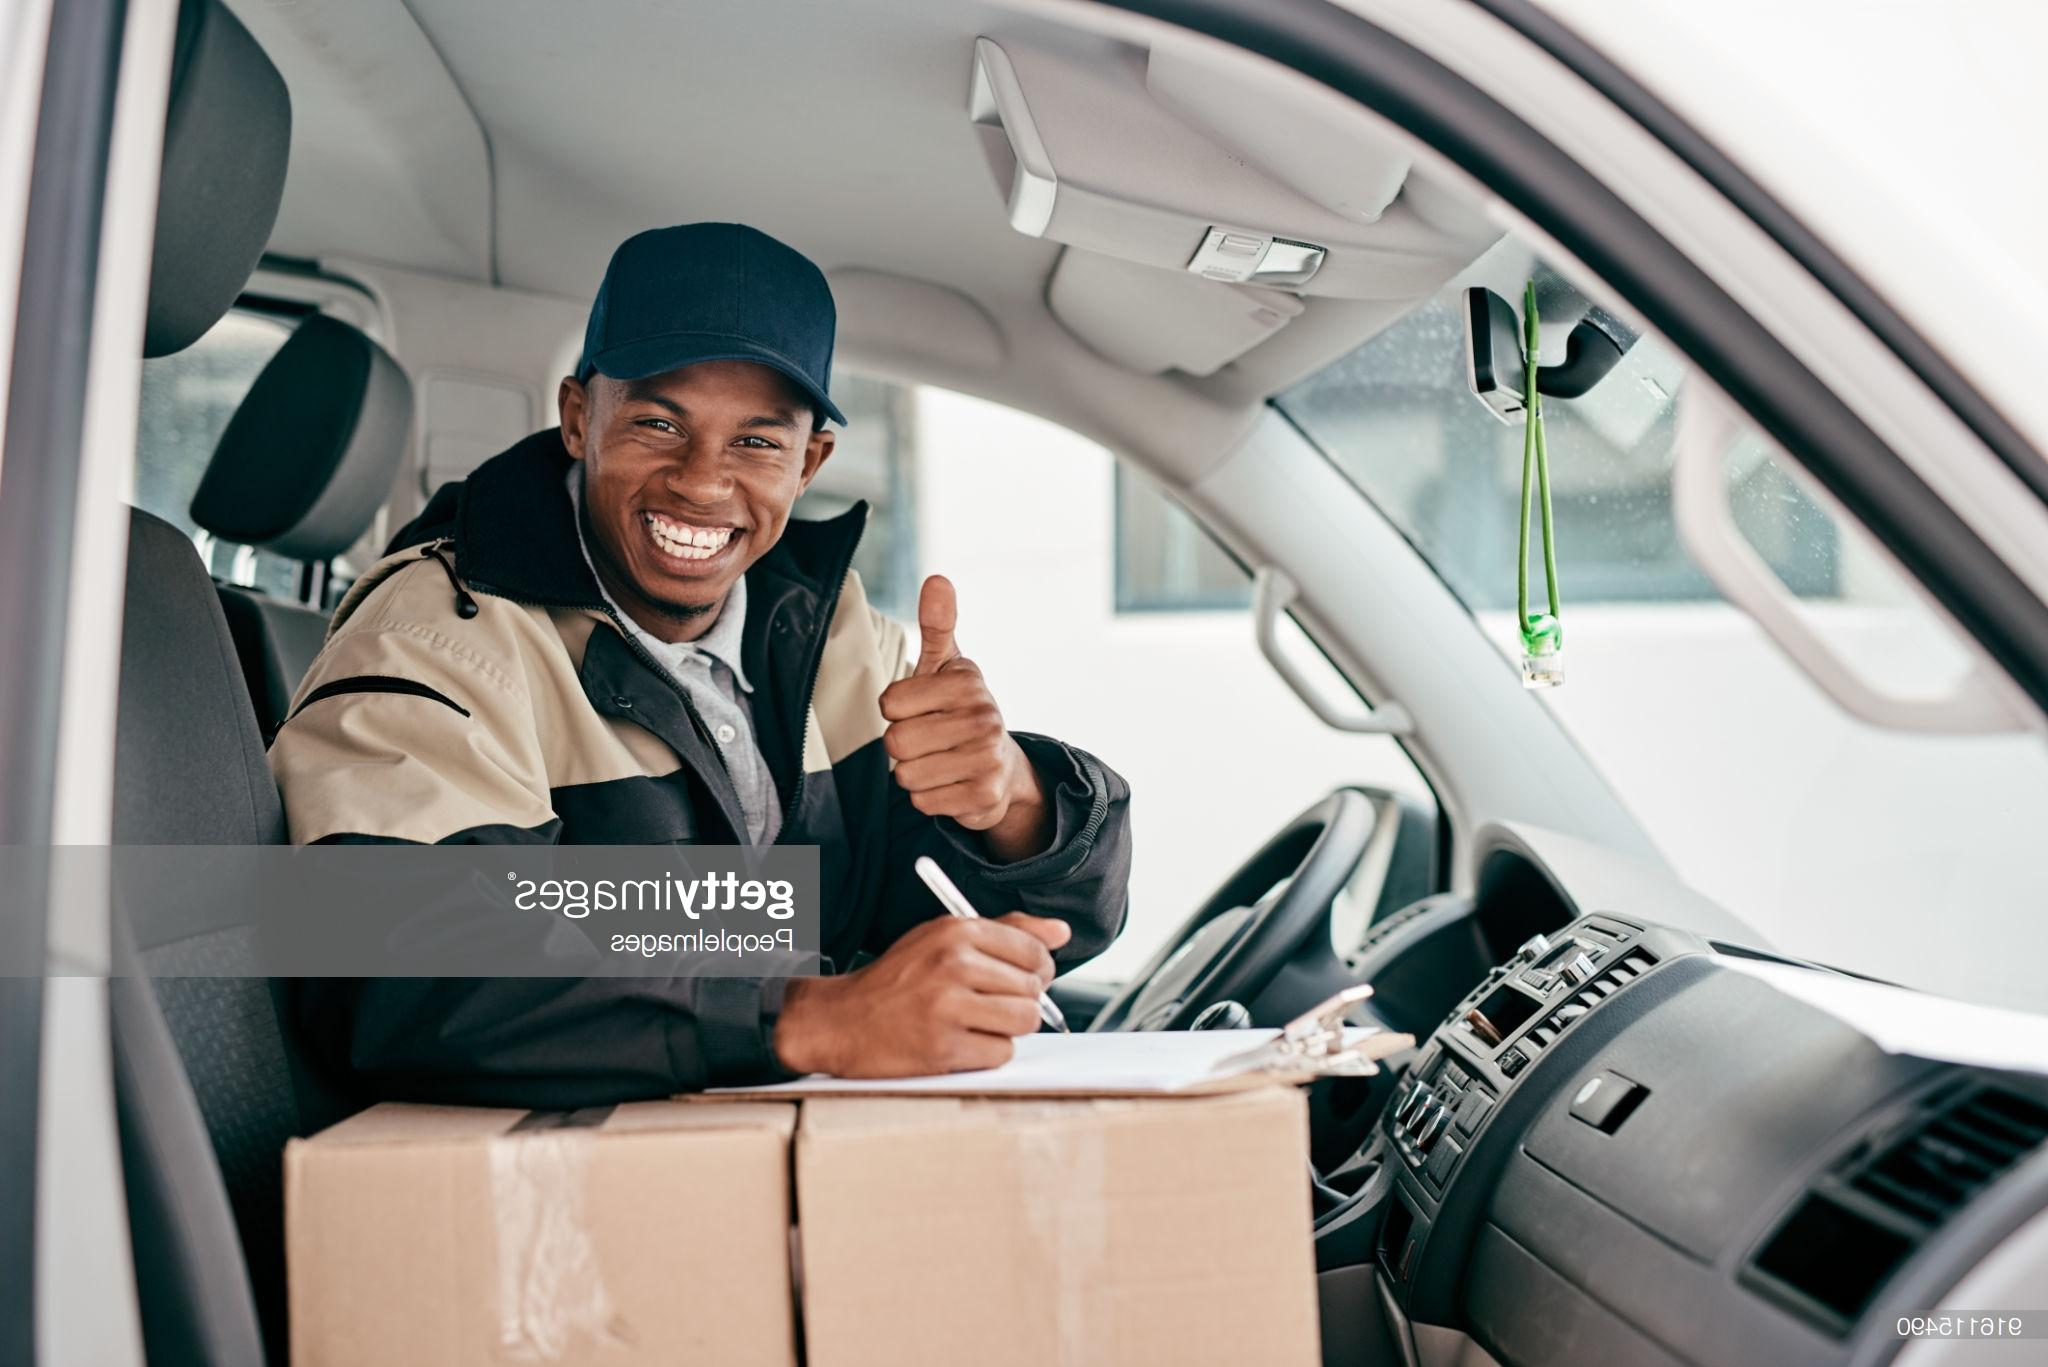thumbsup: (878, 574, 1006, 816)
